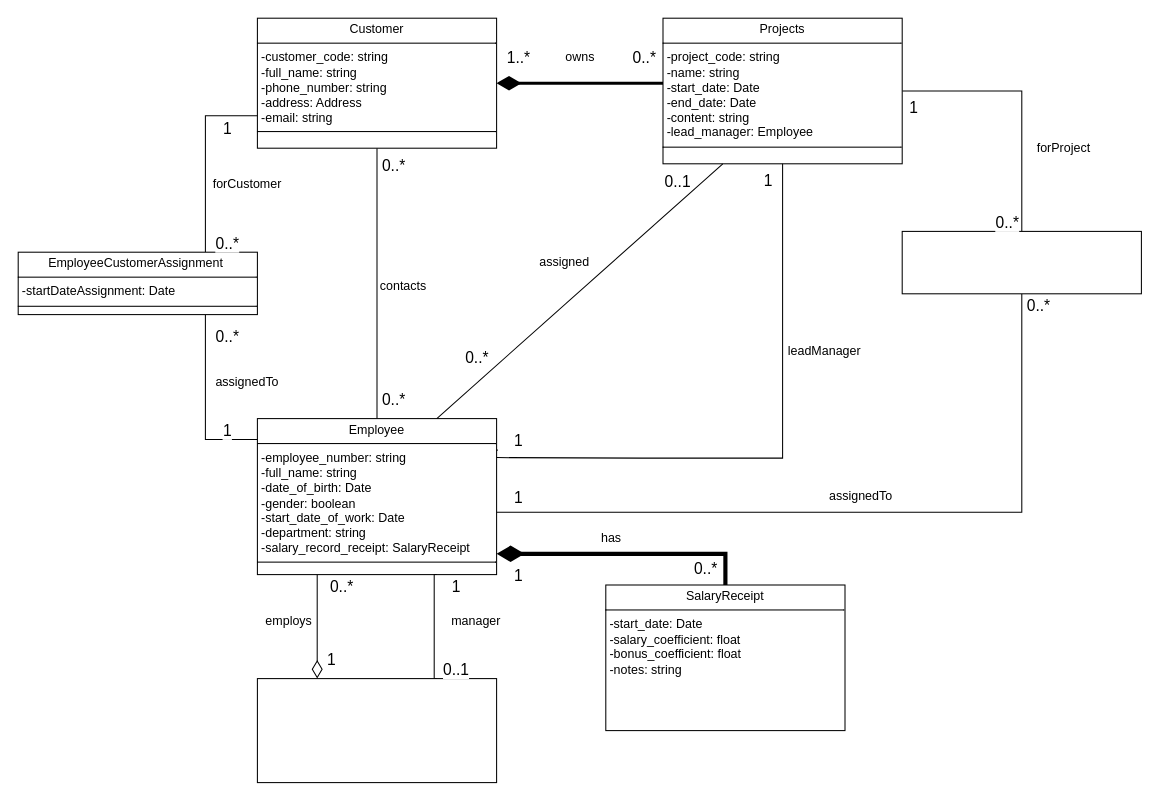
Some shapes in this 1160 by 801 pixel diagram are drawn without their labels. The shapes that lost their labels are listed below. From the top down, each one's centre as x and y in pixels, then its label:
the point at 1021,262: EmployeeProjectAssignment - startDateAssignment: Date
the point at 376,730: Department -code: string -name: string -manager: Employee
